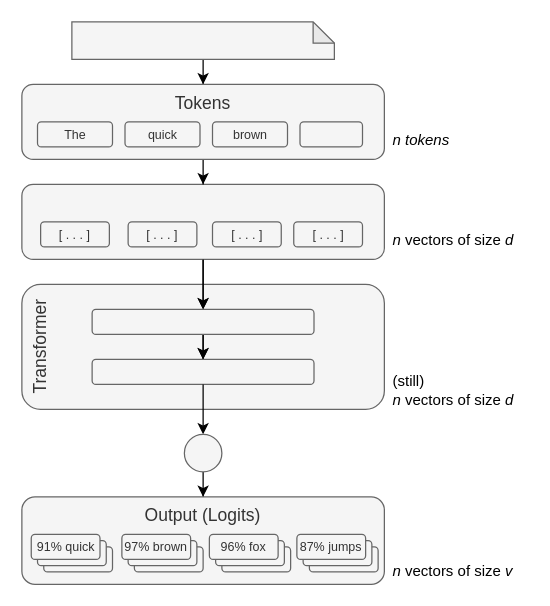
This 550x606 diagram has some shape labels left out. Here are the shapes that lost their labels. From the top down, the box of each, then its label:
(71, 21, 334, 59): "The quick brown fox"
(299, 121, 362, 147): fox
(21, 183, 384, 259): Input Embeddings
(91, 308, 314, 334): Self-Attention
(91, 358, 314, 384): Feedforward Network
(183, 433, 222, 472): W out
